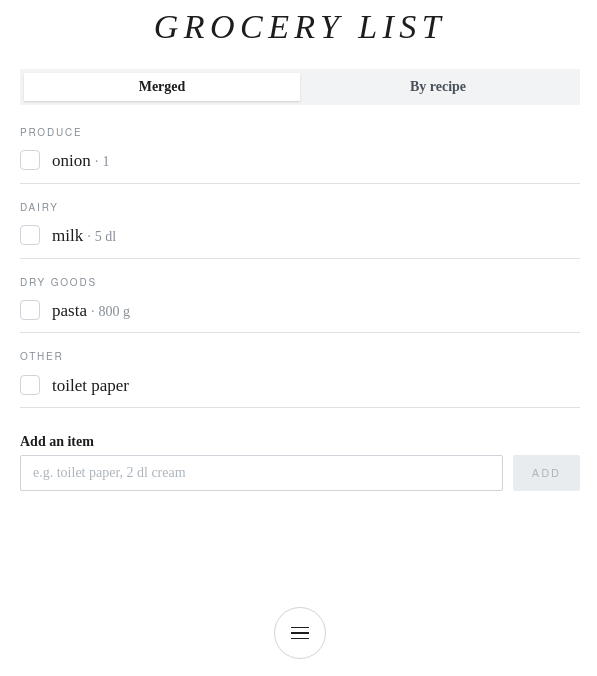
it: a change that fails to save shows why
What coordinates should you click on to do the following:
click the checkbox named "onion"
I would click on:
 (30, 160)
Its box is [20,150,40,170].
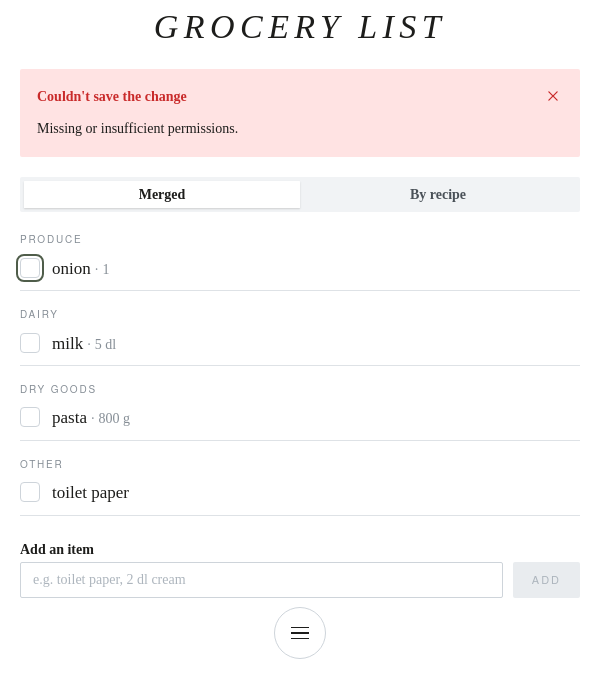
Expected: the text "Couldn't save the change" is shown, [37,86,187,108]
Expected: the text "Missing or insufficient permissions." is shown, [37,121,238,136]
